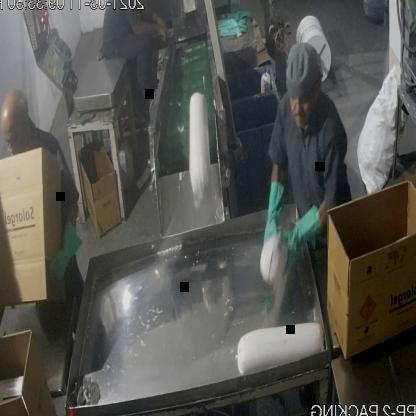glove: (258, 177, 292, 255), (47, 218, 82, 286)
no_glove: (134, 6, 169, 52)
